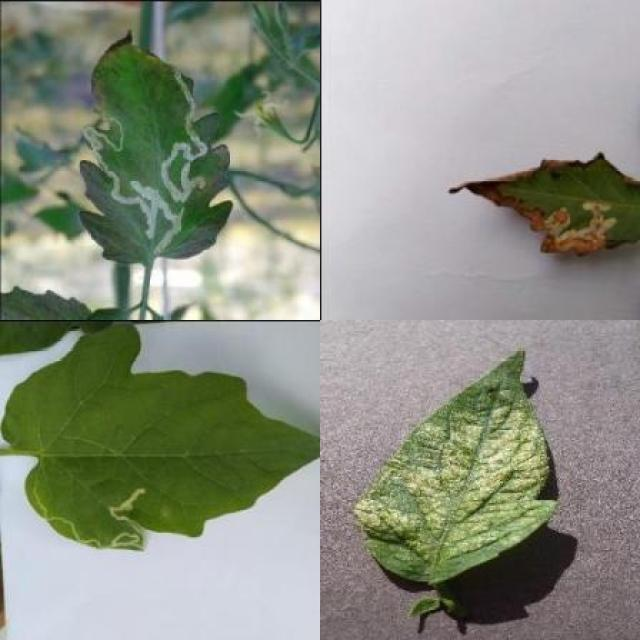Leaf Miner: (0, 320, 320, 554), (78, 26, 235, 268), (464, 150, 640, 256)
Spider Mites: (357, 348, 562, 585)
